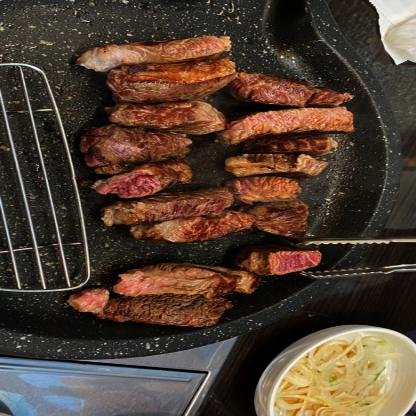Carne: (51, 286, 232, 329), (88, 262, 272, 302), (71, 121, 200, 174), (108, 206, 267, 246), (101, 53, 242, 96), (94, 185, 242, 225), (82, 29, 215, 65), (112, 93, 232, 132), (86, 159, 191, 201), (226, 109, 356, 135), (224, 86, 356, 110), (216, 156, 318, 182), (245, 201, 307, 243), (226, 176, 302, 206), (247, 250, 328, 278), (256, 140, 340, 158)
